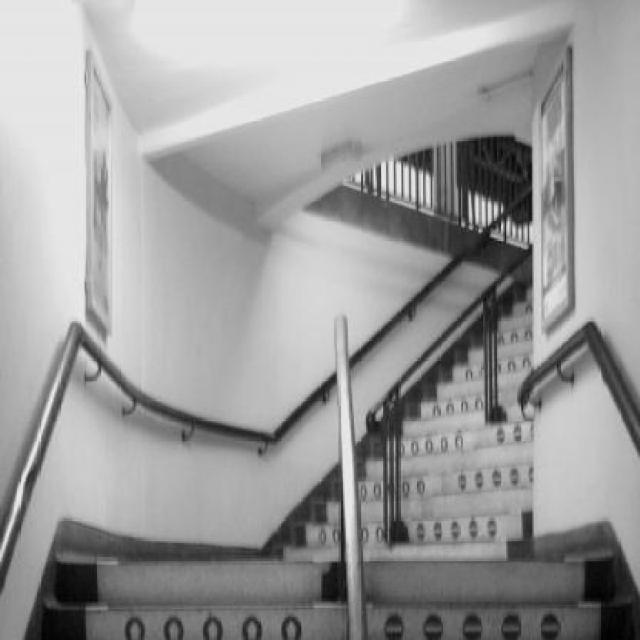stair: (37, 264, 640, 640)
